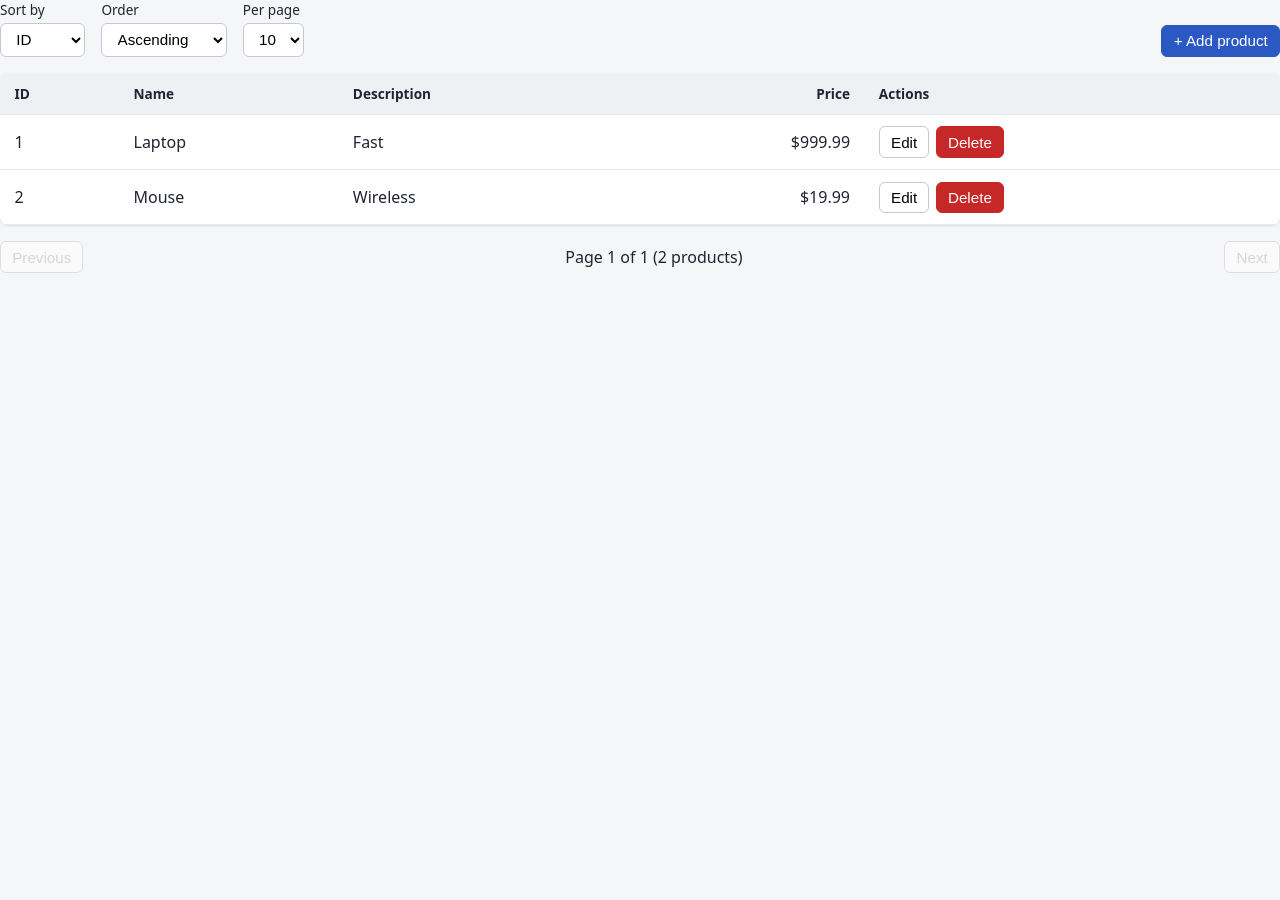
Scenario: ProductList › deletes after confirmation and refreshes the list
This screenshot has width=1280, height=900.
Check: the text "Laptop" is shown, box [119,115,338,170]
Click the button "Delete" in the row of "Laptop" at (970, 142), box [936,126,1004,158]
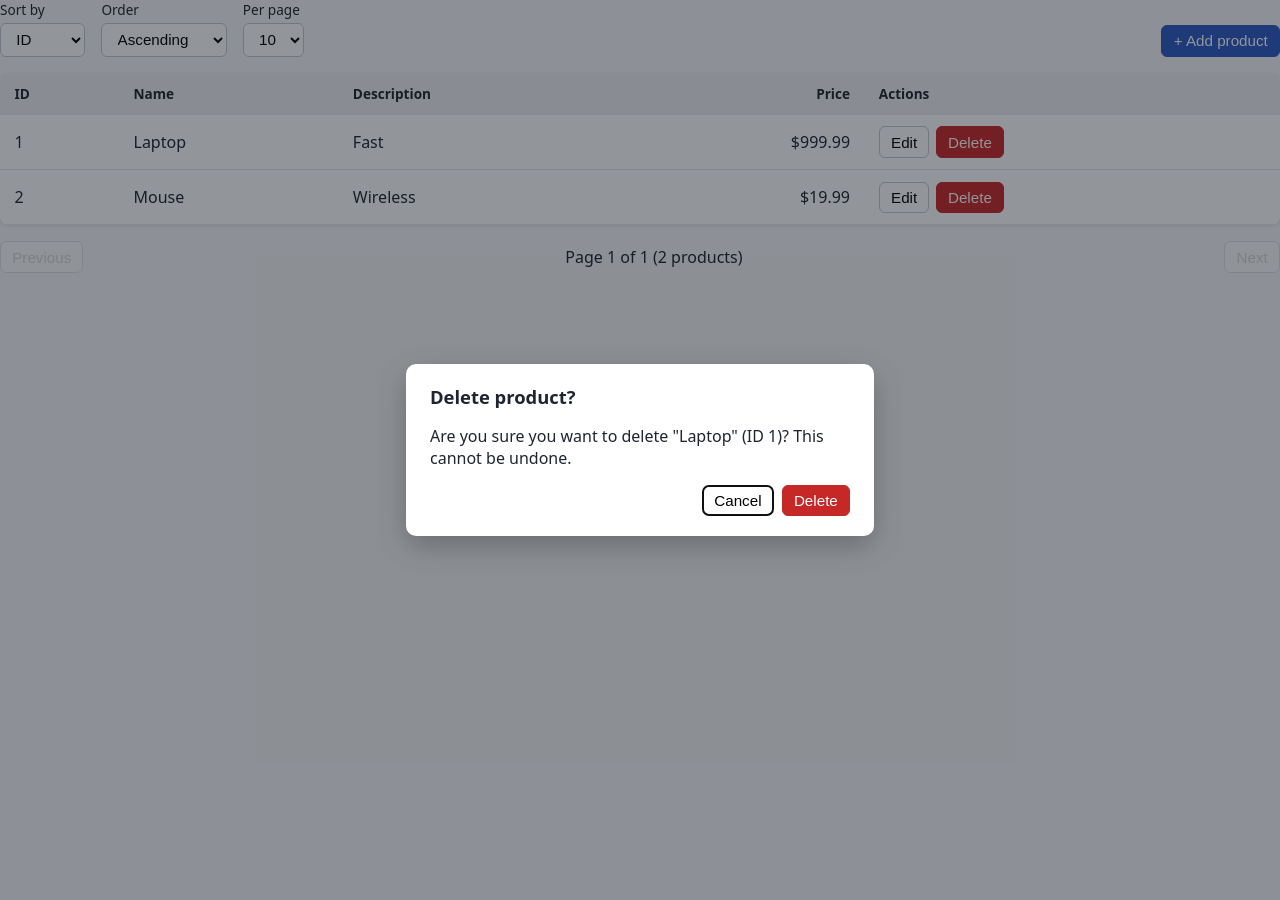
Click the button "Delete" at (816, 500), box [782,485,850,516]
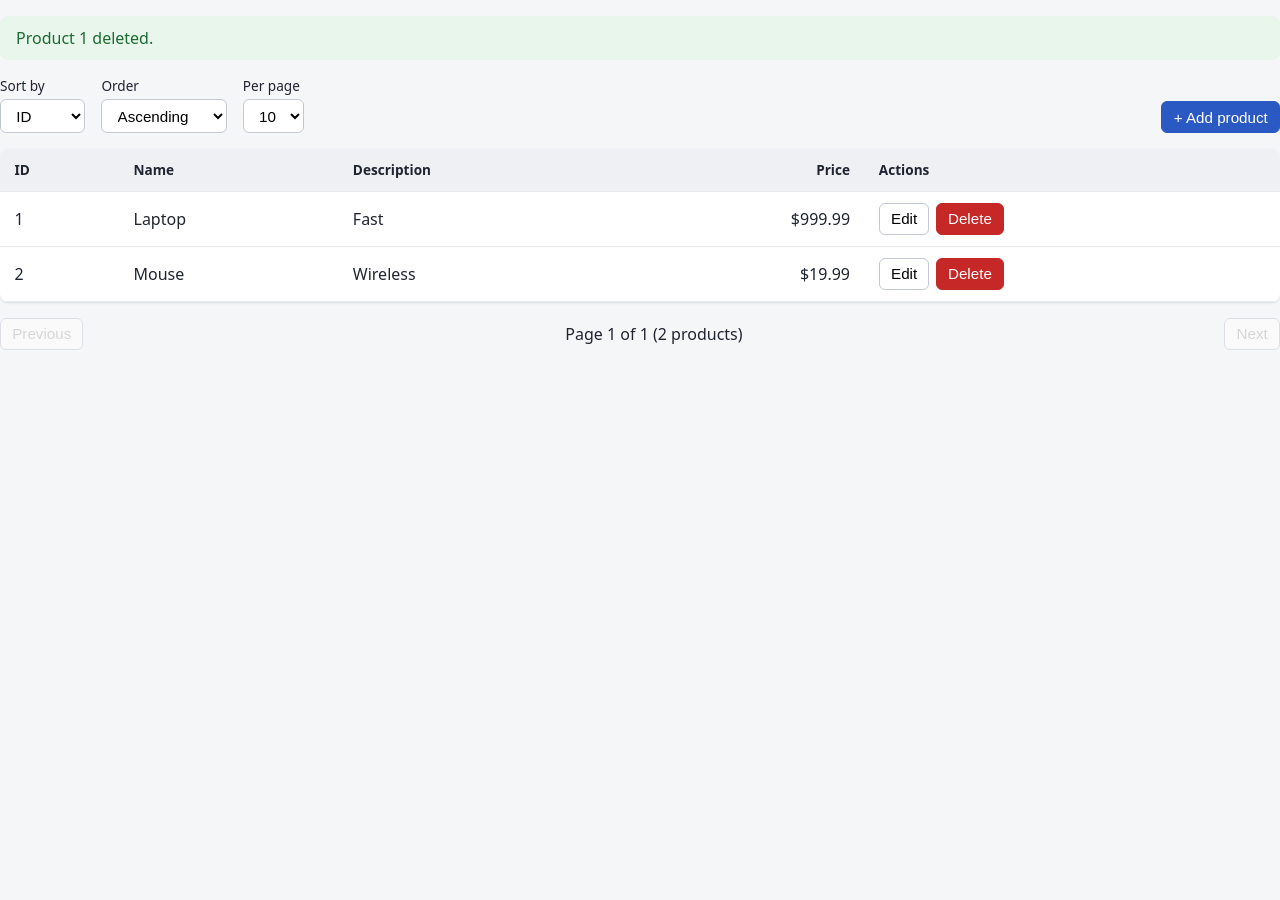
Check: the text "Product 1 deleted." is shown, box [0,16,1279,60]
Check: the dialog is gone
